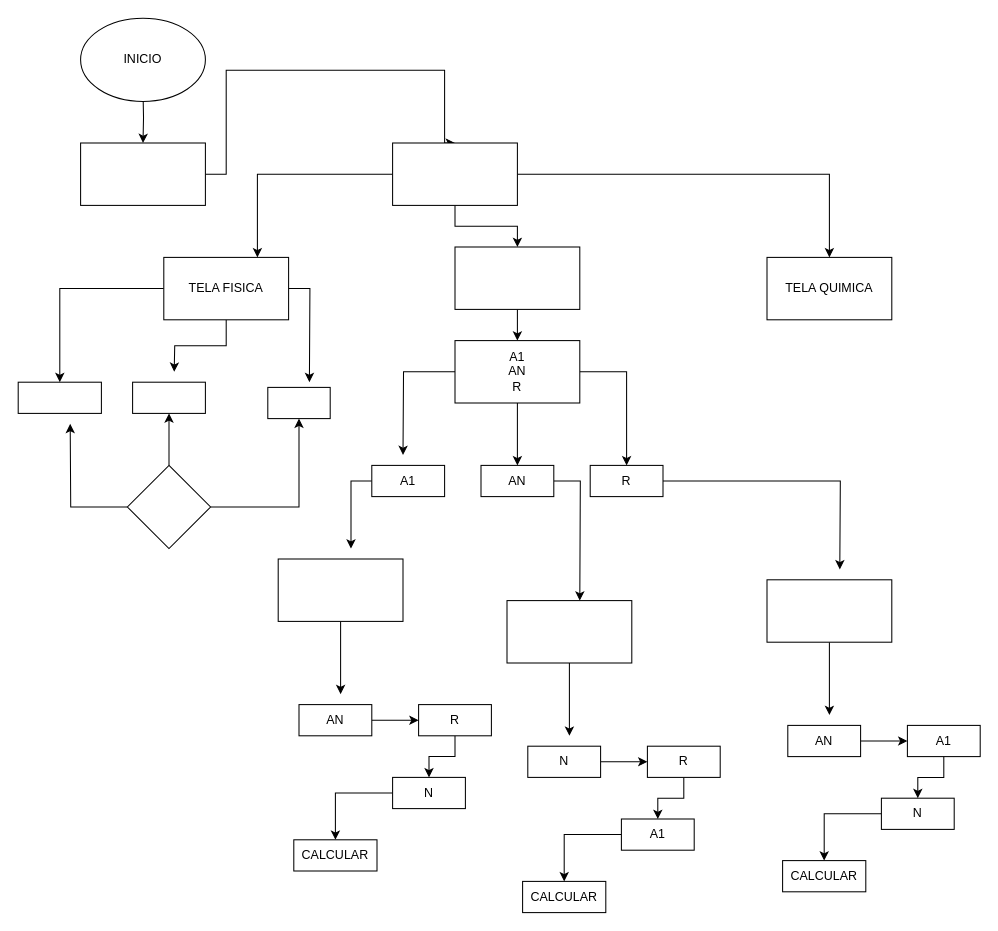
The diagram is 998 pixels wide and 931 high, and some of its shapes have lost their labels. The centre of each missing label's shape, as x and y in pixels:
ESCOLHA: (x=454, y=173)
MATEMATICA: (x=517, y=277)
TELA 1: (x=142, y=173)
TELA P/ CALCULAR O A1: (x=340, y=589)
TELA P/ CALCULAR O AN: (x=569, y=631)
TELA P/ CALCULAR O R: (x=829, y=610)
